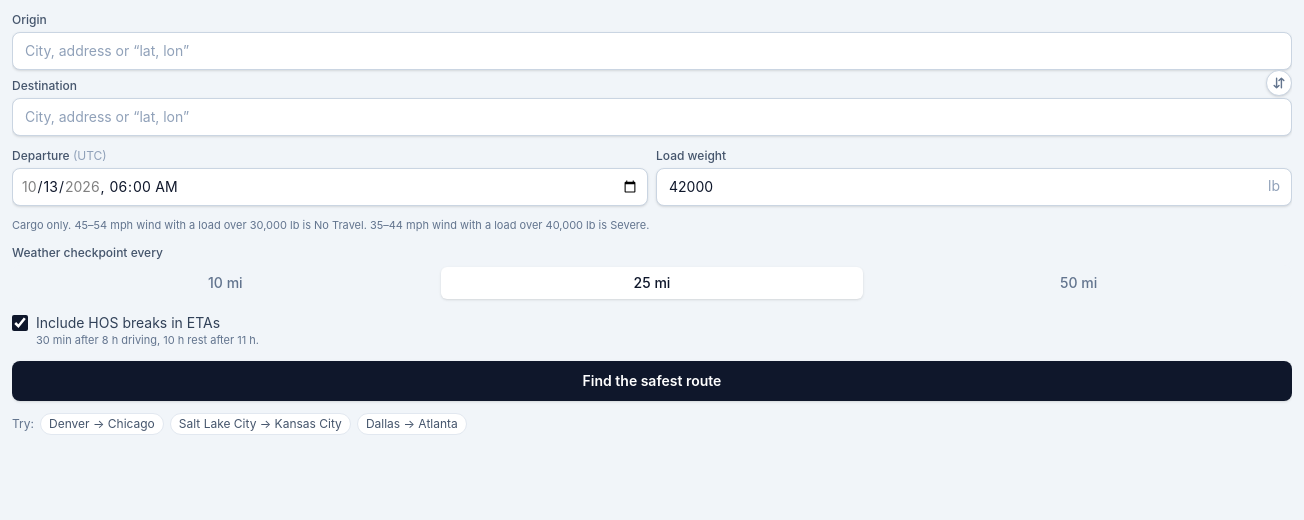
TripForm › blocks submit until both places are picked
Click the button "Find the safest route". click: x=652, y=381
box: [12,361,1292,401]
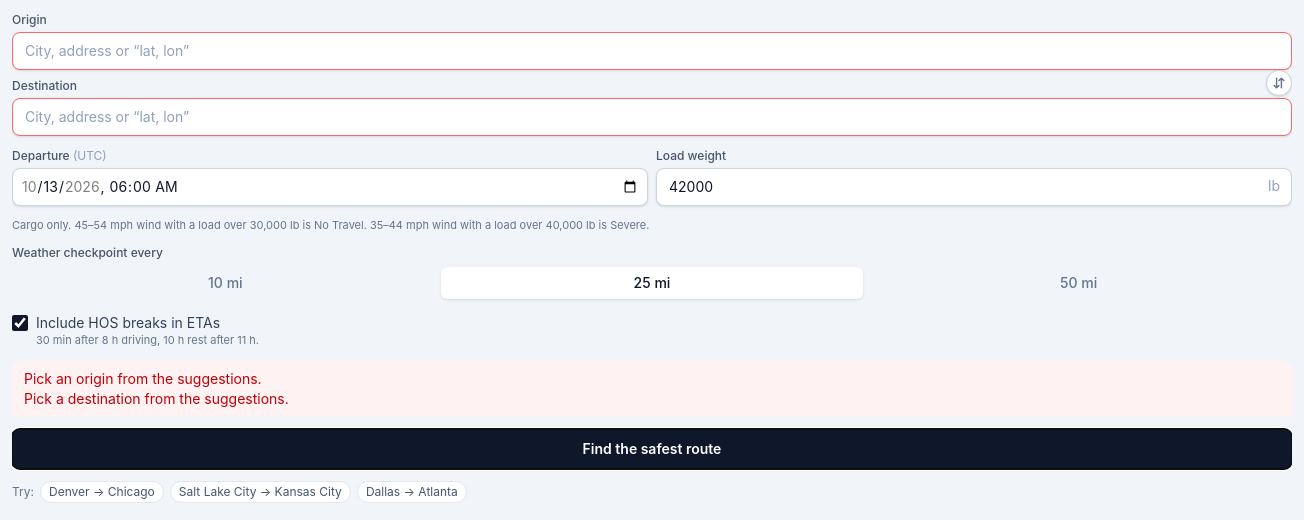
Check: the message shows "Pick an origin", box [24,370,262,387]
